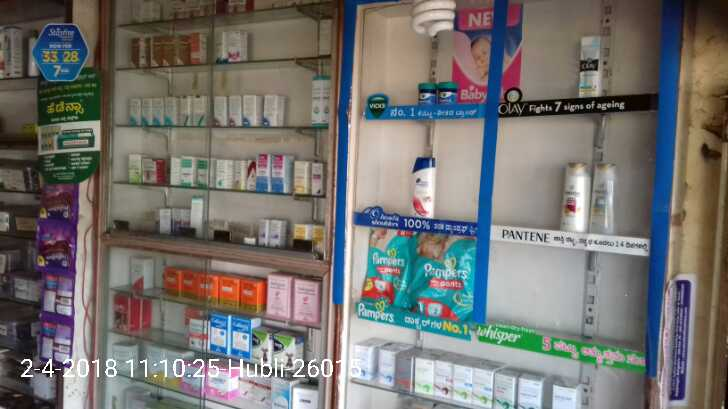vicks: (417, 83, 438, 107), (438, 82, 458, 107)
